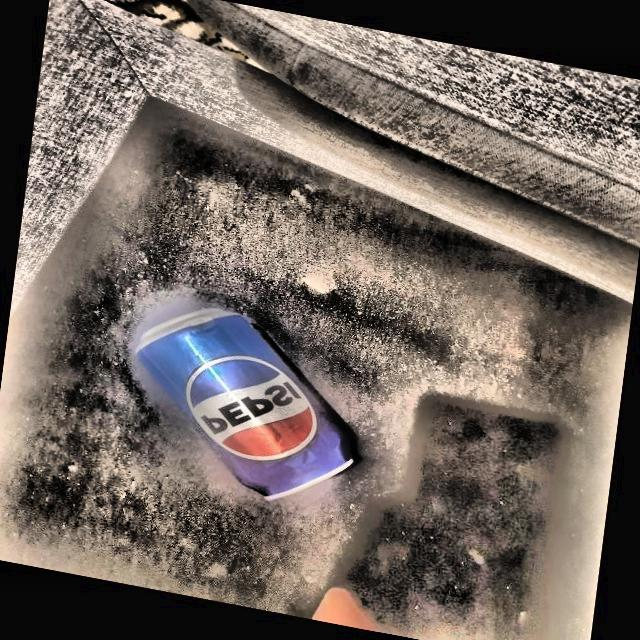pepsi-can: (133, 300, 357, 506)
